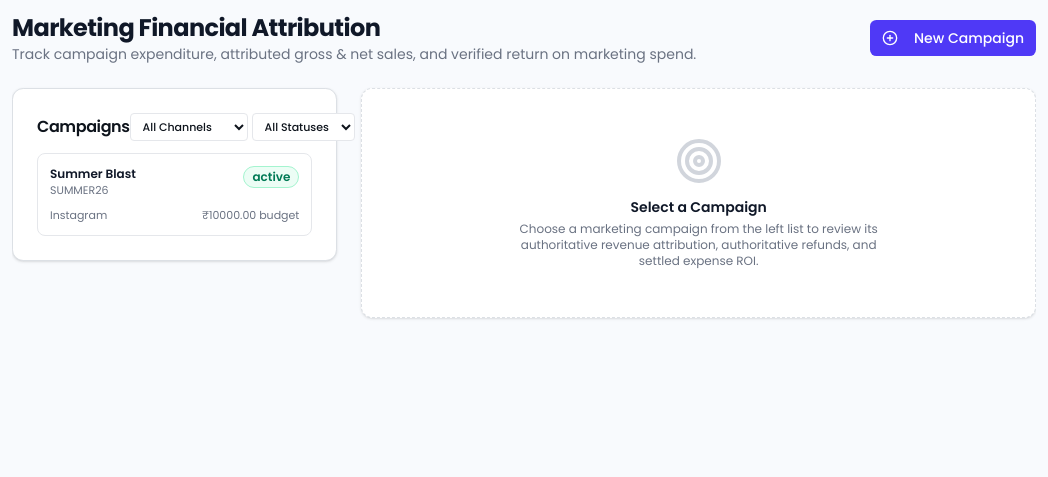
Test case: CampaignAttributionView Workspace › loads and displays financial attribution metrics and settled ROI breakdown when campaign is clicked
Click the text "Summer Blast": point(93, 174) [50,166,136,182]
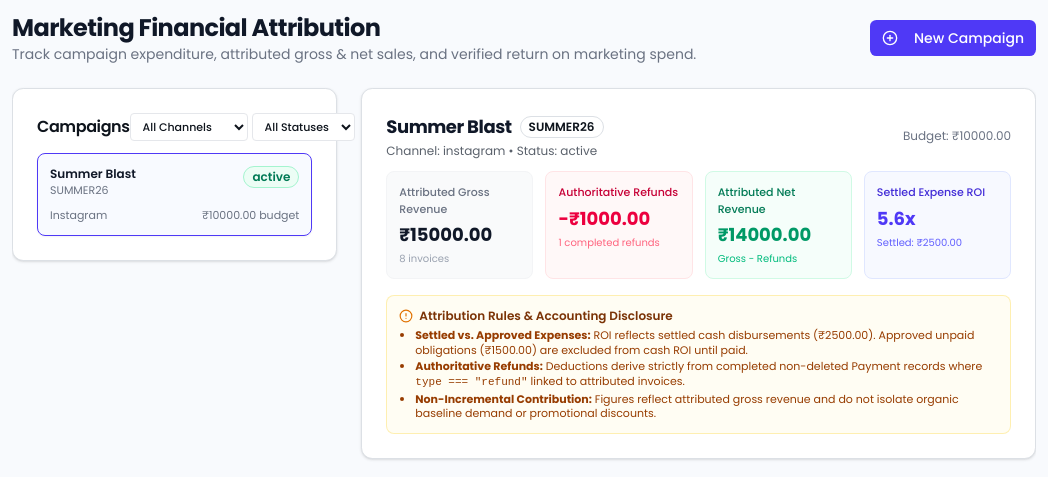
Expected: the text "Attributed Gross Revenue" is shown, [399,184,490,216]
Expected: the text "₹15000.00" is shown, [399,222,492,247]
Expected: the text "-₹1000.00" is shown, [558,206,650,230]
